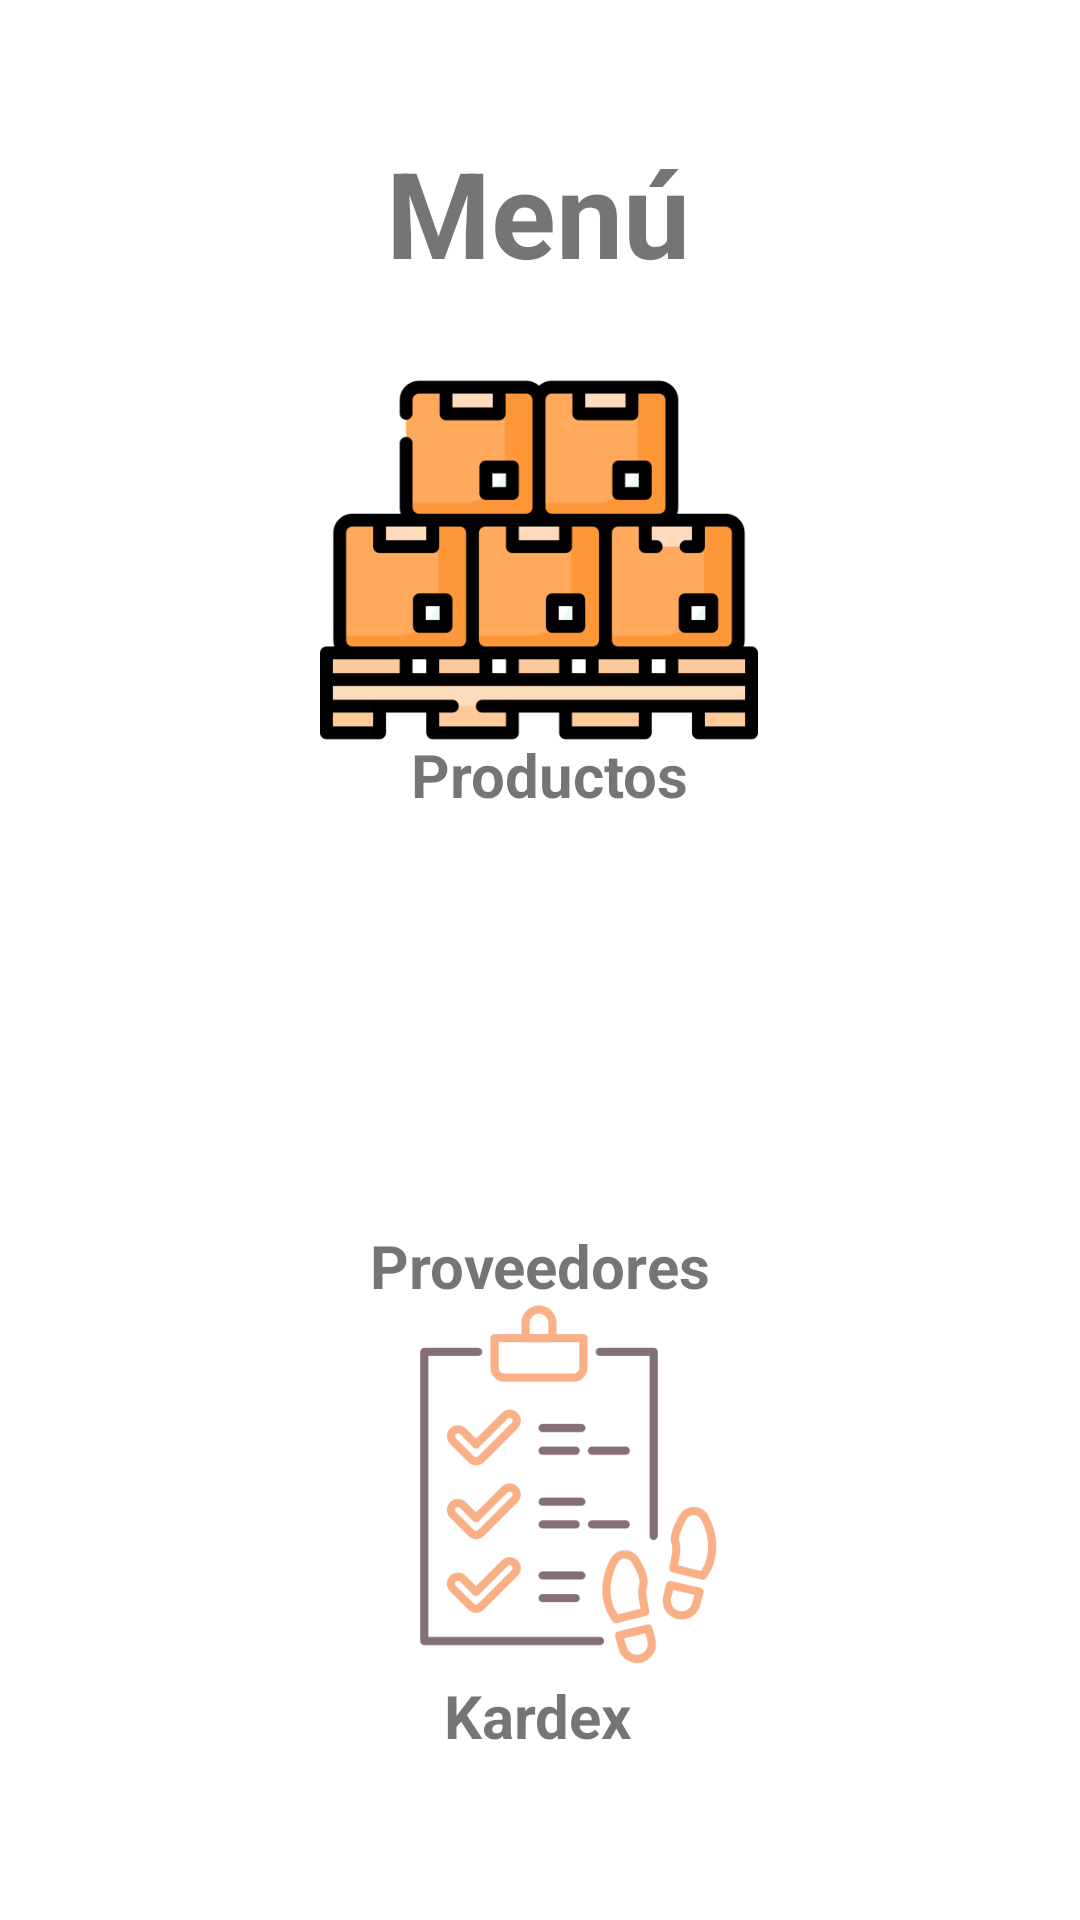

Locate icon controls on the screen. Image size 1080w x 1920h, boxes as bbox=[x1, y1, x2, y2].
movimiento: bbox=[420, 1305, 717, 1663]
